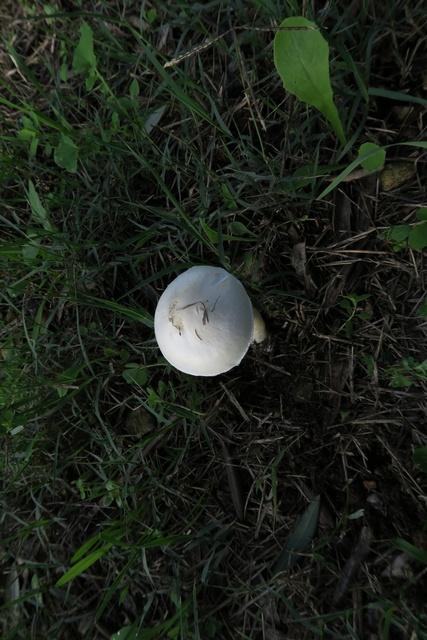Non-edible Mushroom: (152, 263, 261, 377)
